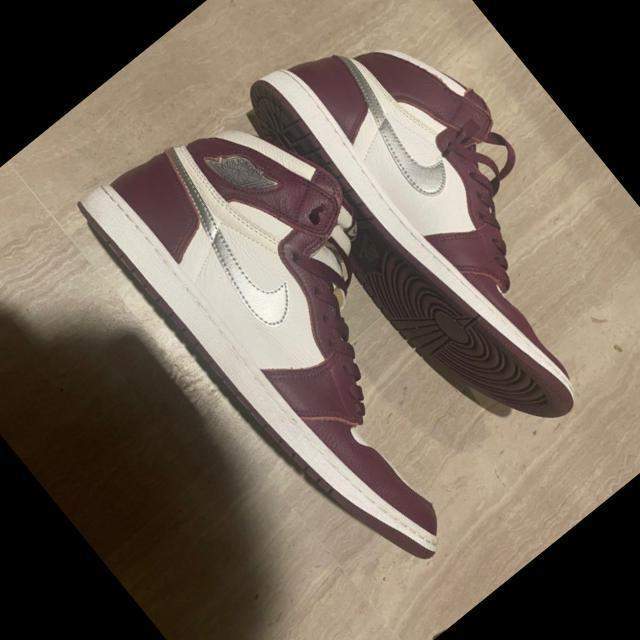nike original jordan 1: (63, 60, 559, 598), (216, 0, 640, 471)
